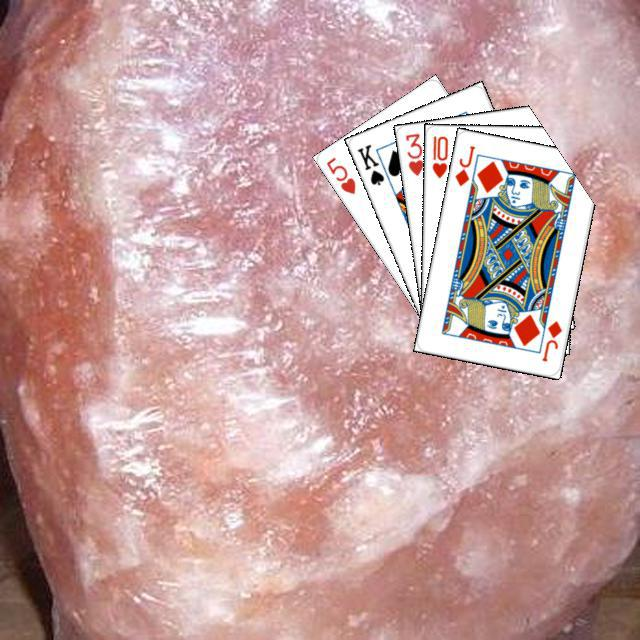10h: (427, 131, 449, 180)
3h: (401, 128, 425, 178)
5h: (321, 152, 357, 196)
Jd: (450, 141, 477, 188), (537, 316, 564, 363)
Ks: (352, 139, 386, 187)
